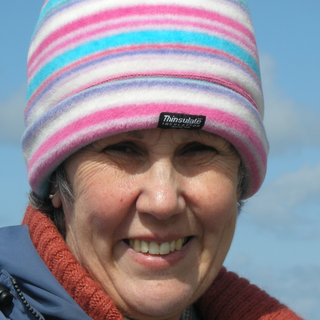eye: (171, 138, 220, 161), (99, 139, 145, 163)
